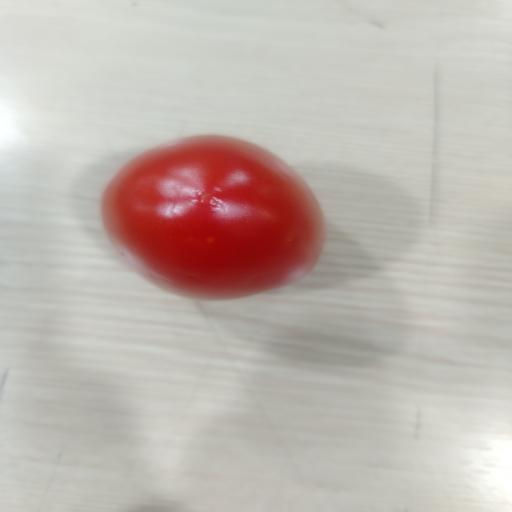ripe: (102, 136, 325, 299)
